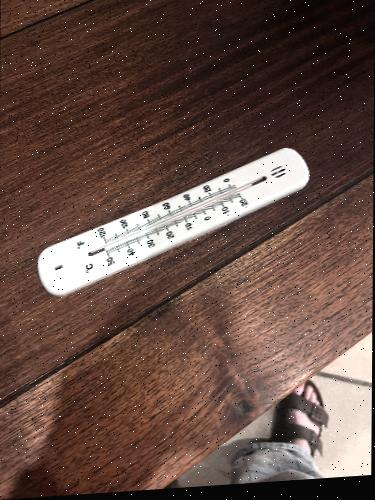thermo: (33, 144, 312, 296)
